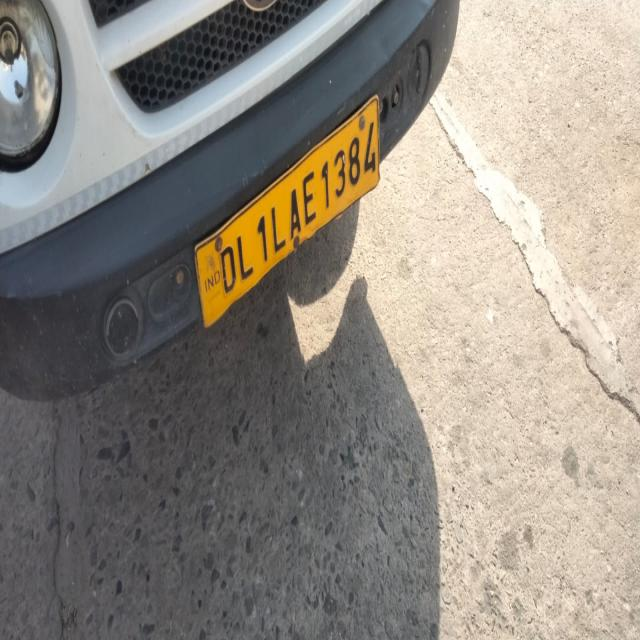License-plate: (194, 84, 389, 335)
